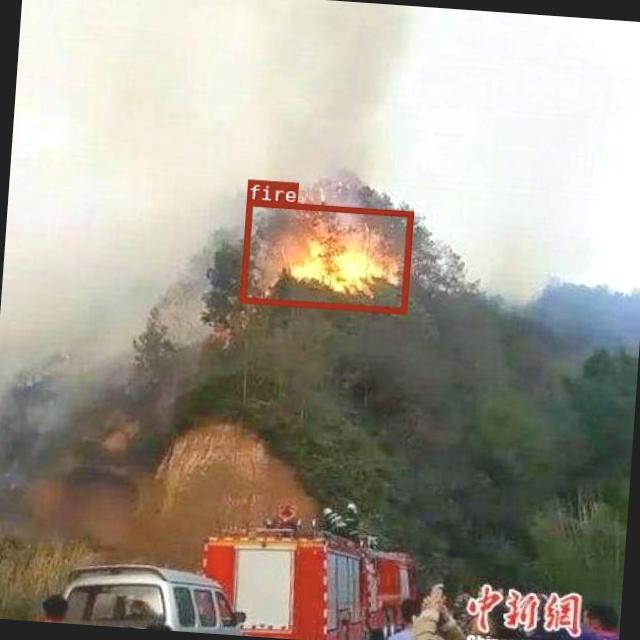fire: (238, 198, 412, 312)
